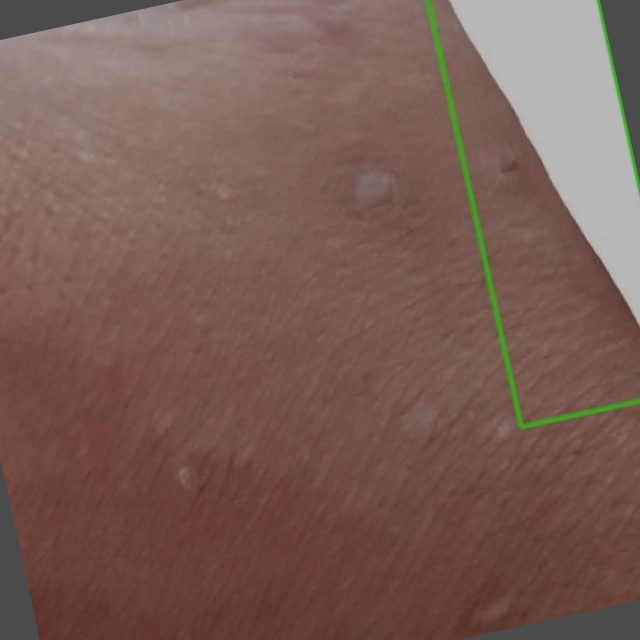Scabies: (428, 0, 639, 426)
